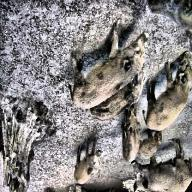boar: (67, 4, 148, 119), (135, 48, 192, 138), (98, 72, 144, 139), (131, 150, 192, 192), (65, 144, 103, 192), (122, 111, 143, 167), (139, 126, 163, 168)
